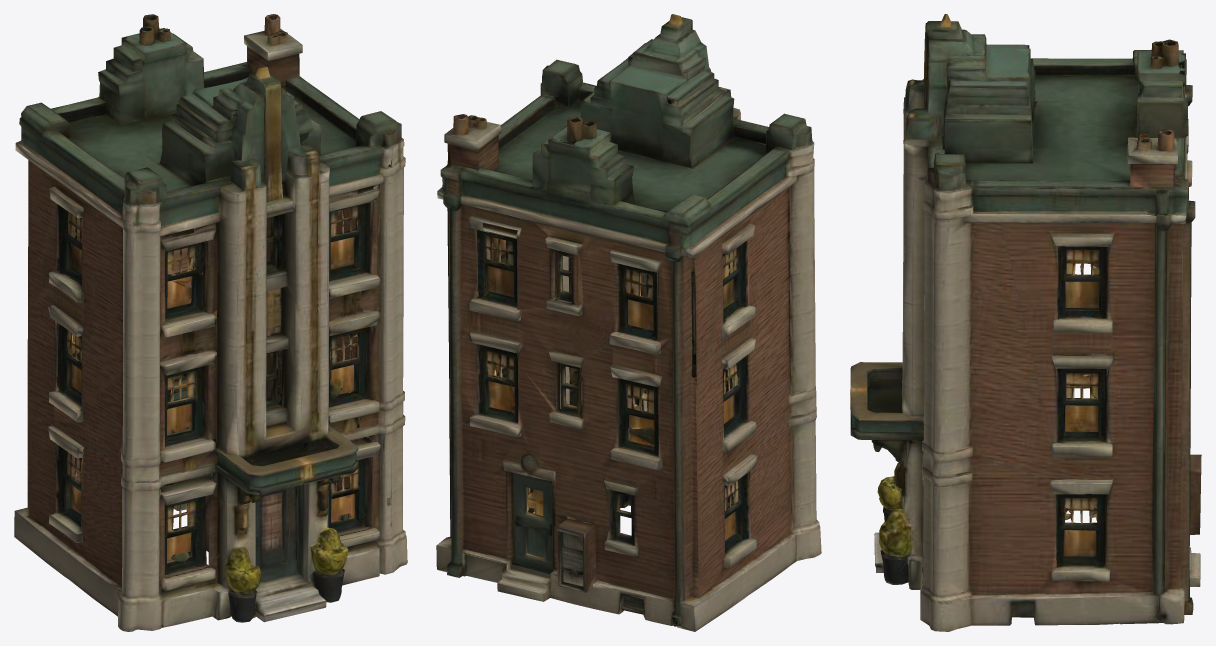
Rendered from candidate.glb.
The picture shows the model from 3 angles, left to right: view 1: azimuth 30°, elevation 25°; view 2: azimuth 150°, elevation 25°; view 3: azimuth 270°, elevation 25°; orthographic projection. The views are drawn at different scales.
Parts seen in each view (by area): view 1: expansion__tower_3__native_mobile; view 2: expansion__tower_3__native_mobile; view 3: expansion__tower_3__native_mobile.
Part boxes in pixels (box(x1,y1,x2,y2)): expansion__tower_3__native_mobile: box(14, 14, 407, 631); expansion__tower_3__native_mobile: box(436, 14, 821, 631); expansion__tower_3__native_mobile: box(850, 14, 1201, 631).
Bounding box in the file's own units: 0.5693 × 1 × 0.5835.
Materials: 1 (1 with a texture image).
